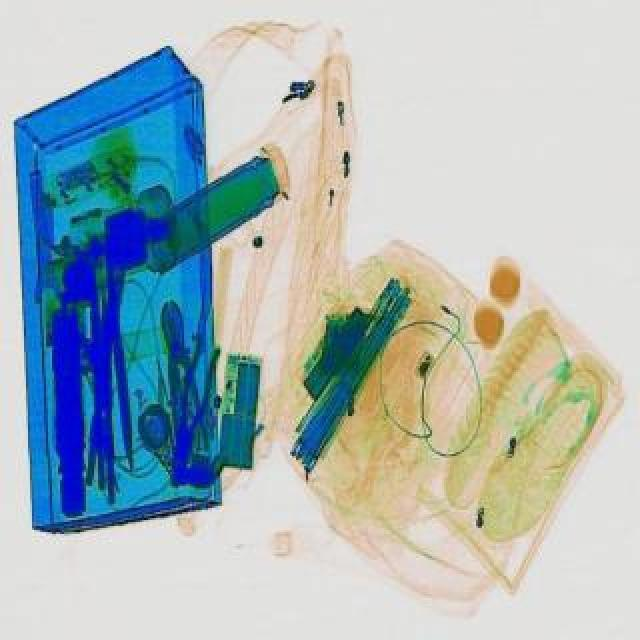wrench: (156, 328, 224, 484), (152, 296, 212, 458)
